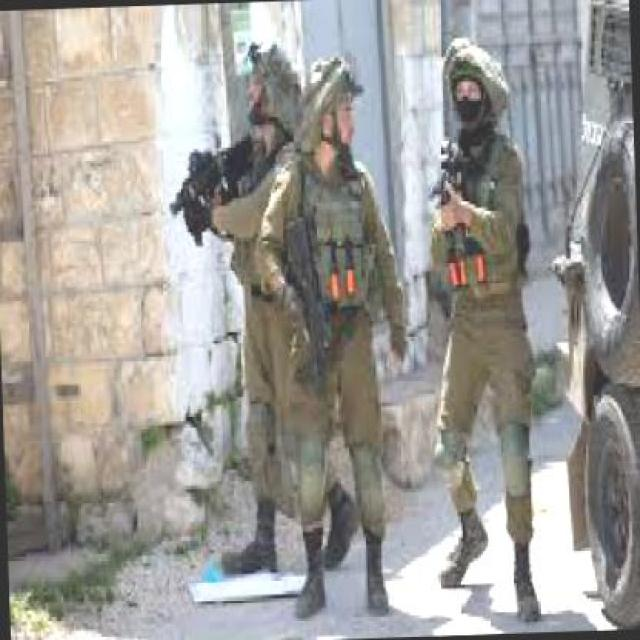MIL_Pax: (268, 54, 414, 621), (424, 39, 542, 627), (201, 38, 302, 577)
